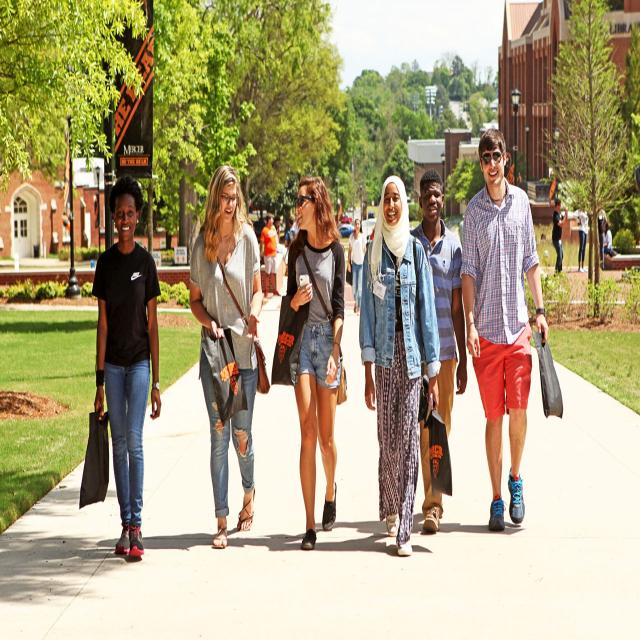body: (459, 127, 551, 536), (75, 171, 163, 566), (188, 158, 270, 552), (358, 174, 442, 557), (270, 167, 348, 554), (409, 167, 467, 534), (346, 218, 368, 314), (260, 212, 282, 298), (550, 196, 568, 280), (572, 196, 590, 274), (284, 215, 298, 278), (258, 209, 282, 245), (597, 198, 608, 265), (601, 220, 613, 254), (598, 208, 604, 266), (457, 213, 465, 252), (273, 214, 281, 243), (292, 209, 300, 233)
